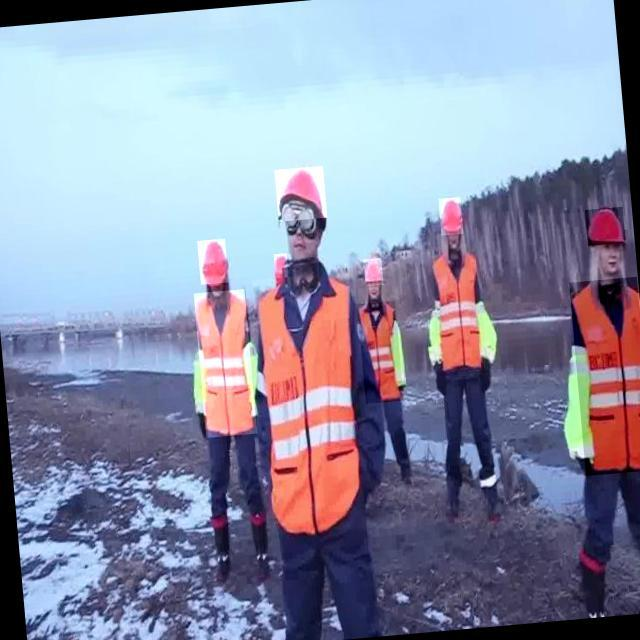Gloves: (474, 352, 510, 401), (566, 445, 604, 491), (426, 354, 455, 402), (190, 404, 215, 446)
Helmet: (275, 166, 329, 222), (585, 207, 626, 246), (197, 239, 229, 285), (439, 196, 464, 235), (363, 258, 383, 286), (274, 253, 290, 280)
Person: (254, 147, 388, 640), (556, 182, 640, 640), (420, 178, 525, 531), (165, 226, 253, 640)
Safety Boot: (566, 552, 618, 632), (198, 504, 238, 593), (243, 513, 281, 592), (478, 467, 516, 531), (440, 465, 469, 528), (396, 438, 417, 498)
Safety Vest: (257, 274, 365, 535), (568, 276, 640, 475), (194, 289, 257, 438), (428, 247, 487, 376), (357, 301, 404, 404)
